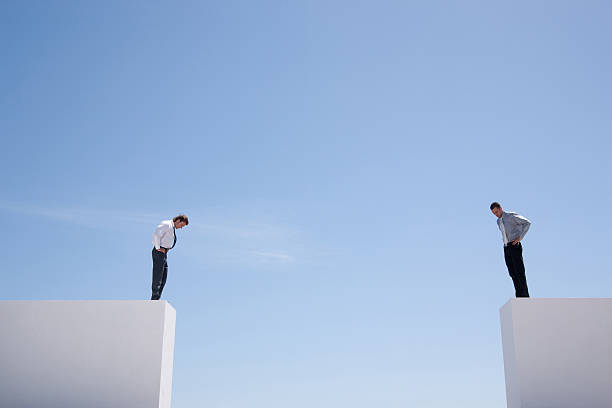person: (489, 202, 532, 296), (150, 215, 187, 301)
